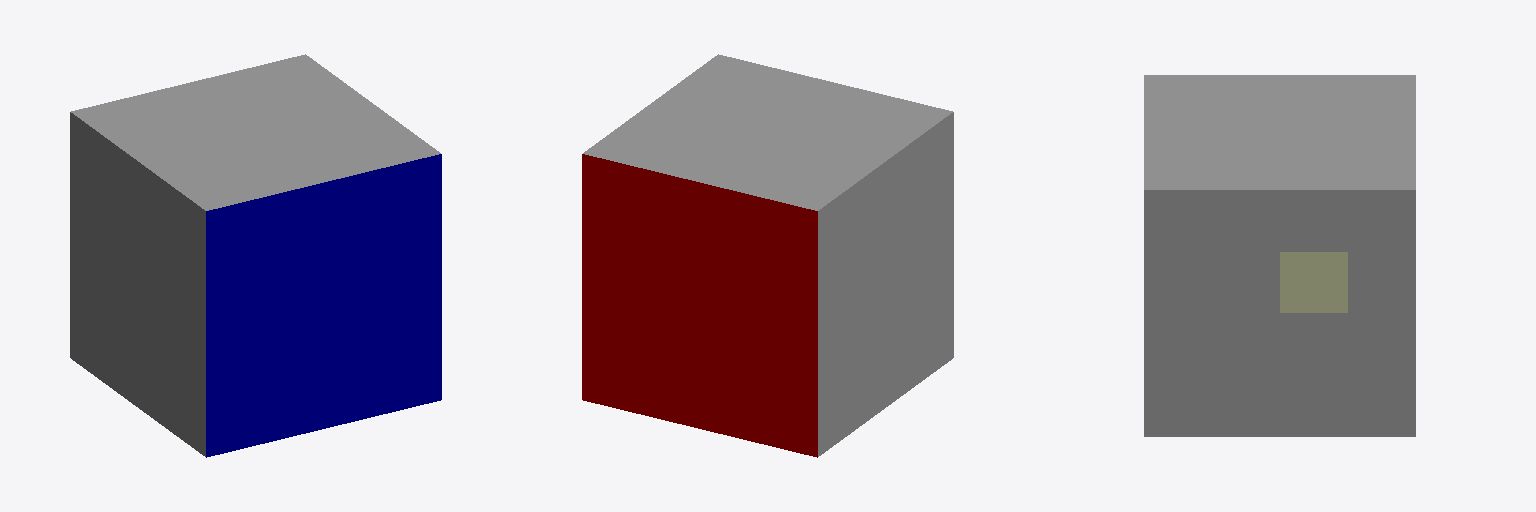
The model's file is quad_box_noSphere.obj.
3 renders of one model, left to right at view 1: azimuth 30°, elevation 25°; view 2: azimuth 150°, elevation 25°; view 3: azimuth 270°, elevation 25°, orthographic.
Visible parts, largest first — view 1: Cube; view 2: Cube; view 3: Cube.
Boxes of the visible parts, x1,y1,x2,y2 form: Cube: [70, 54, 441, 457]; Cube: [582, 54, 953, 457]; Cube: [1144, 75, 1415, 436].
Size of the model in its own units: 2 by 2 by 2.